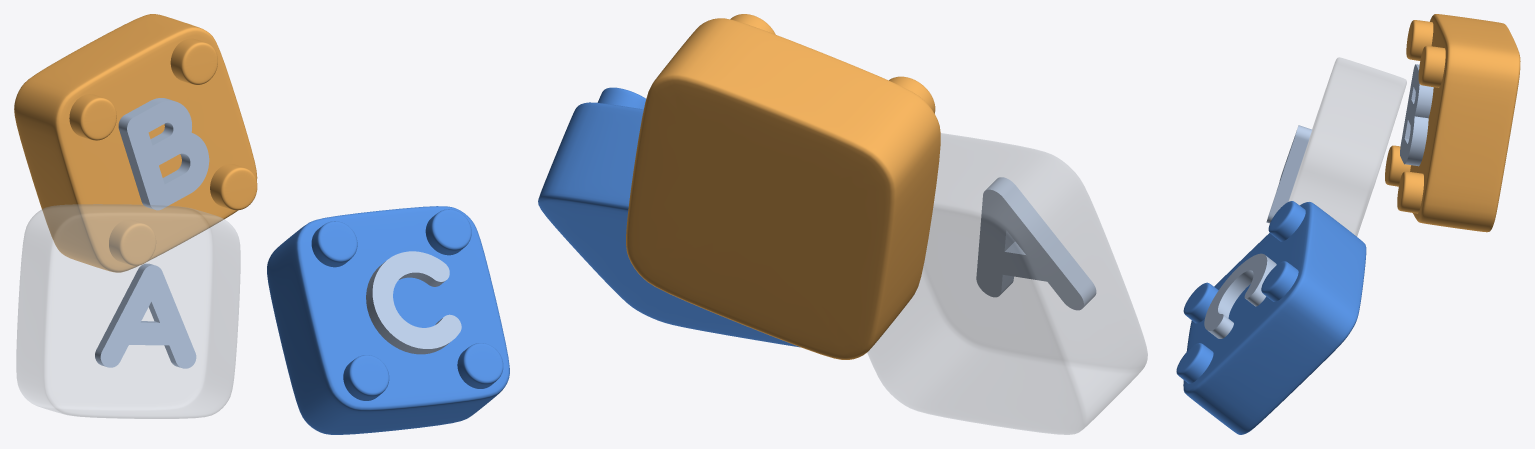
Rendered from ABC Blocks.glb.
3 renders of one model, left to right at view 1: azimuth 30°, elevation 25°; view 2: azimuth 150°, elevation 25°; view 3: azimuth 270°, elevation 25°, orthographic. The views are drawn at different scales.
Parts seen in each view (by area): view 1: Cube, Cube.002, Cube.001, Cylinder.001, rect5, Cylinder.002, path3, path7; view 2: Cube.001, Cube, Cube.002, path3, Cylinder.001, Cylinder.002; view 3: Cube.002, Cube.001, Cube, Cylinder.002, Cylinder.001, path7, rect5, path3.
Boxes of the visible parts, left/top/right/bottom form: Cube: left=16, top=204, right=240, bottom=418; Cube.002: left=267, top=206, right=509, bottom=434; Cube.001: left=14, top=14, right=257, bottom=272; Cylinder.001: left=69, top=38, right=257, bottom=265; rect5: left=118, top=98, right=209, bottom=210; Cylinder.002: left=311, top=209, right=503, bottom=400; path3: left=95, top=263, right=196, bottom=368; path7: left=366, top=251, right=461, bottom=354; Cube.001: left=626, top=18, right=940, bottom=359; Cube: left=867, top=133, right=1147, bottom=434; Cube.002: left=538, top=102, right=800, bottom=347; path3: left=976, top=177, right=1096, bottom=310; Cylinder.001: left=730, top=14, right=935, bottom=113; Cylinder.002: left=597, top=87, right=646, bottom=109; Cube.002: left=1183, top=202, right=1366, bottom=434; Cube.001: left=1410, top=14, right=1520, bottom=232; Cube: left=1289, top=57, right=1406, bottom=235; Cylinder.002: left=1176, top=201, right=1305, bottom=383; Cylinder.001: left=1385, top=20, right=1445, bottom=213; path7: left=1204, top=253, right=1276, bottom=338; rect5: left=1400, top=64, right=1433, bottom=166; path3: left=1266, top=125, right=1311, bottom=223.
Size of the model in its own units: 3.77 by 2.94 by 2.89.
